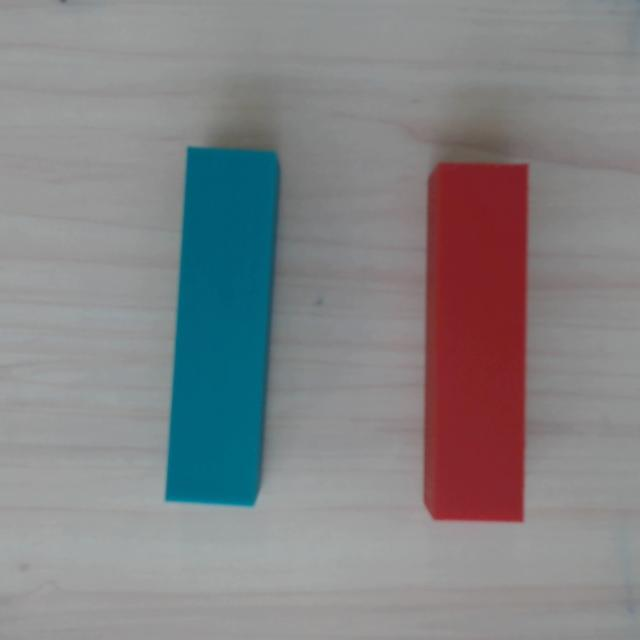Balok-Hijau-1002525: (165, 148, 281, 507)
Balok-Merah-1002525: (423, 163, 528, 522)
